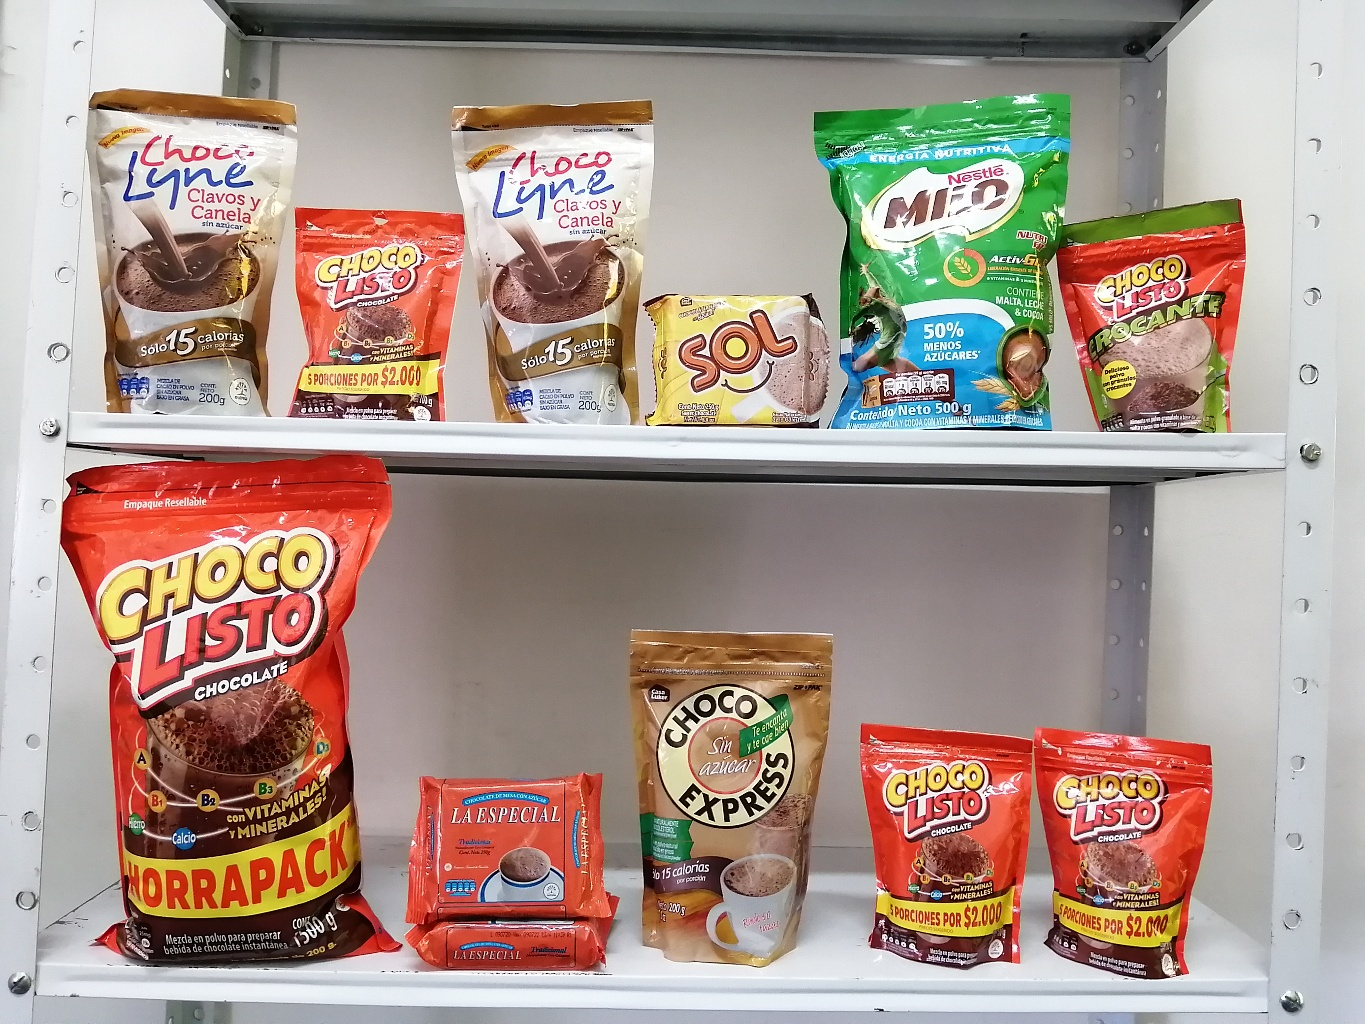COL0170102DYP10000: (1048, 203, 1246, 433)
COL0170103DYP1,500: (66, 453, 409, 962)
COL0170205DYP50000: (814, 105, 1077, 430)
